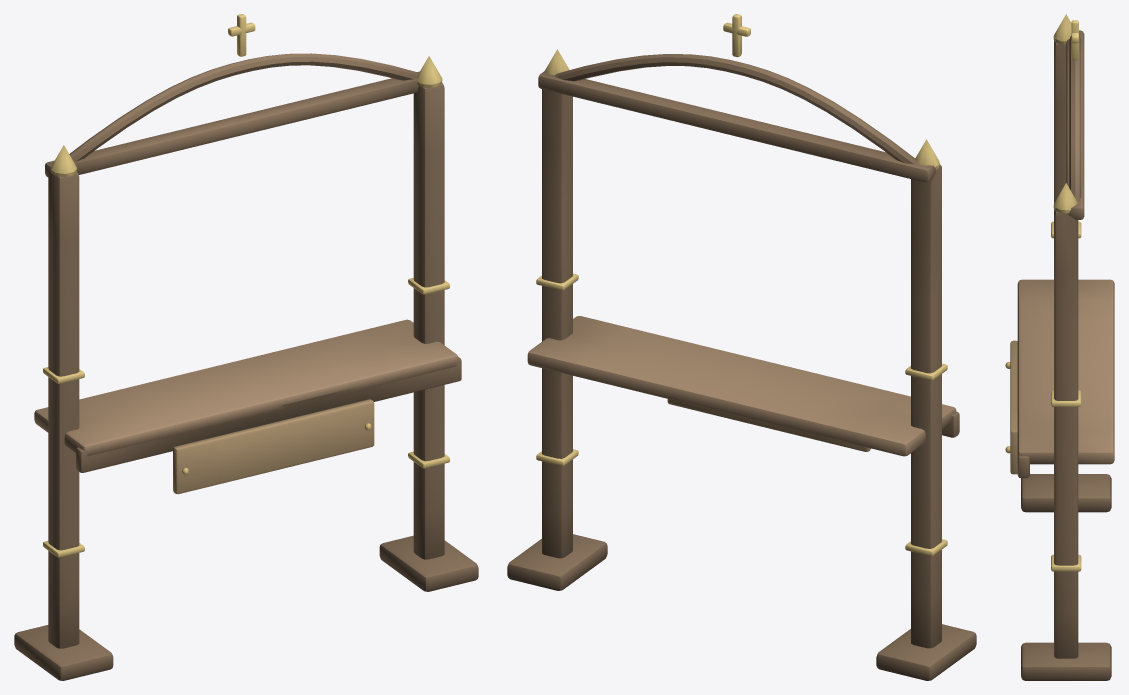
Rendered from obj_kit_diptych.glb.
3 views of the same model, side by side, from view 1: azimuth 30°, elevation 25°; view 2: azimuth 150°, elevation 25°; view 3: azimuth 270°, elevation 25° (orthographic). The views are drawn at different scales.
Visible parts, largest first — view 1: Cube.009, Cube, Cube.004, Cube.011, Cube.008, Cube.010, arch, Cube.001, Cube.005; view 2: Cube.009, Cube, Cube.004, Cube.008, arch, Cube.001, Cube.005, Cube.011; view 3: Cube.009, Cube.004, Cube.005, Cube.001, Cube, arch, Cube.008, Cube.011, Cone.001, Cone, Cube.006, Cube.010 (+2 smaller).
Boxes of the visible parts, box(x1,y1,x2,y2) form: Cube.009: box(34, 319, 458, 456); Cube: box(48, 172, 79, 648); Cube.004: box(413, 82, 444, 559); Cube.011: box(173, 399, 374, 494); Cube.008: box(45, 71, 419, 177); Cube.010: box(76, 356, 461, 472); arch: box(69, 53, 418, 161); Cube.001: box(14, 625, 113, 680); Cube.005: box(379, 535, 478, 591); Cube.009: box(527, 316, 956, 456); Cube: box(911, 164, 941, 648); Cube.004: box(542, 89, 572, 558); Cube.008: box(538, 71, 935, 182); arch: box(555, 54, 917, 164); Cube.001: box(876, 624, 976, 680); Cube.005: box(507, 534, 607, 590); Cube.011: box(667, 399, 870, 451); Cube.009: box(1017, 279, 1114, 464); Cube.004: box(1054, 209, 1078, 658); Cube.005: box(1021, 642, 1111, 680); Cube.001: box(1021, 474, 1111, 512); Cube: box(1054, 40, 1066, 203); arch: box(1069, 35, 1081, 201); Cube.008: box(1066, 30, 1084, 219); Cube.011: box(1010, 340, 1017, 474); Cone.001: box(1053, 183, 1077, 213); Cone: box(1053, 14, 1071, 44); Cube.006: box(1051, 554, 1081, 571); Cube.010: box(1017, 456, 1029, 478).
Size of the model in its own units: 1.52 by 2.07 by 0.3611.
